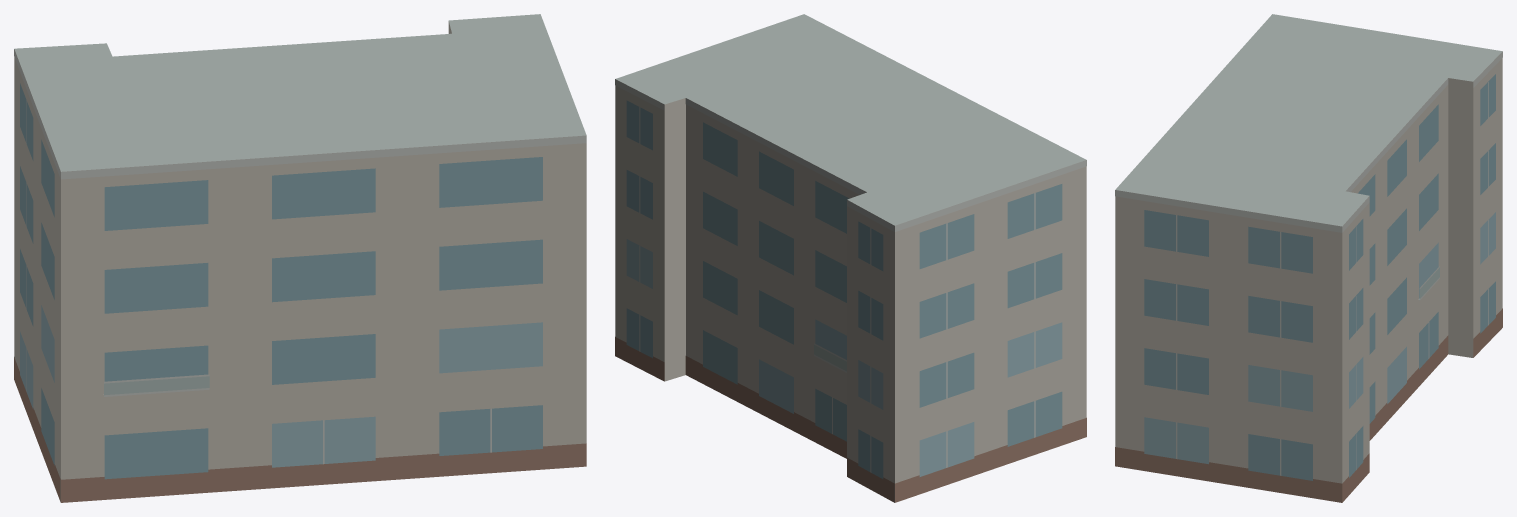
Rendered from survey-upis-32877988.glb.
3 views of the same model, side by side, from view 1: azimuth 30°, elevation 25°; view 2: azimuth 150°, elevation 25°; view 3: azimuth 270°, elevation 25° (orthographic). The views are drawn at different scales.
Visible parts, largest first — view 1: survey-upis-32877988.tmp; view 2: survey-upis-32877988.tmp; view 3: survey-upis-32877988.tmp.
Boxes of the visible parts, x1,y1,x2,y2 form: survey-upis-32877988.tmp: (14,14,586,502); survey-upis-32877988.tmp: (615,14,1086,502); survey-upis-32877988.tmp: (1115,14,1502,502).
Size of the model in its own units: 17.4 by 10.55 by 13.42.
